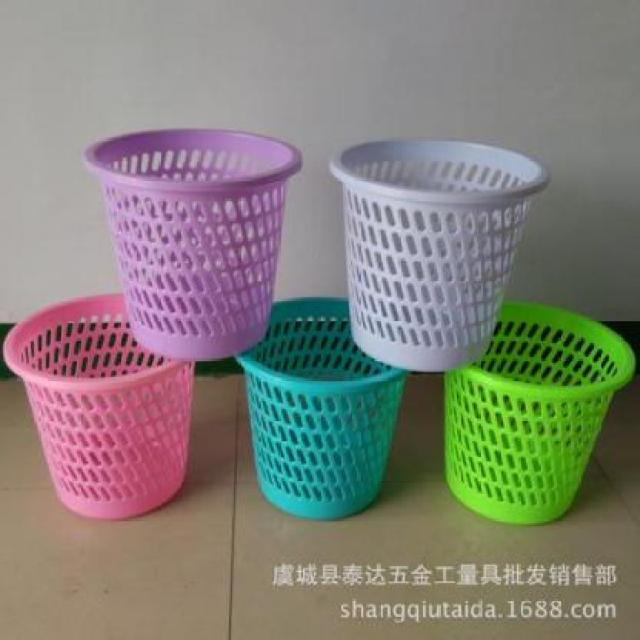dustbin: (326, 132, 554, 370), (79, 124, 306, 358), (438, 294, 640, 528), (2, 291, 195, 522), (231, 291, 411, 522)
